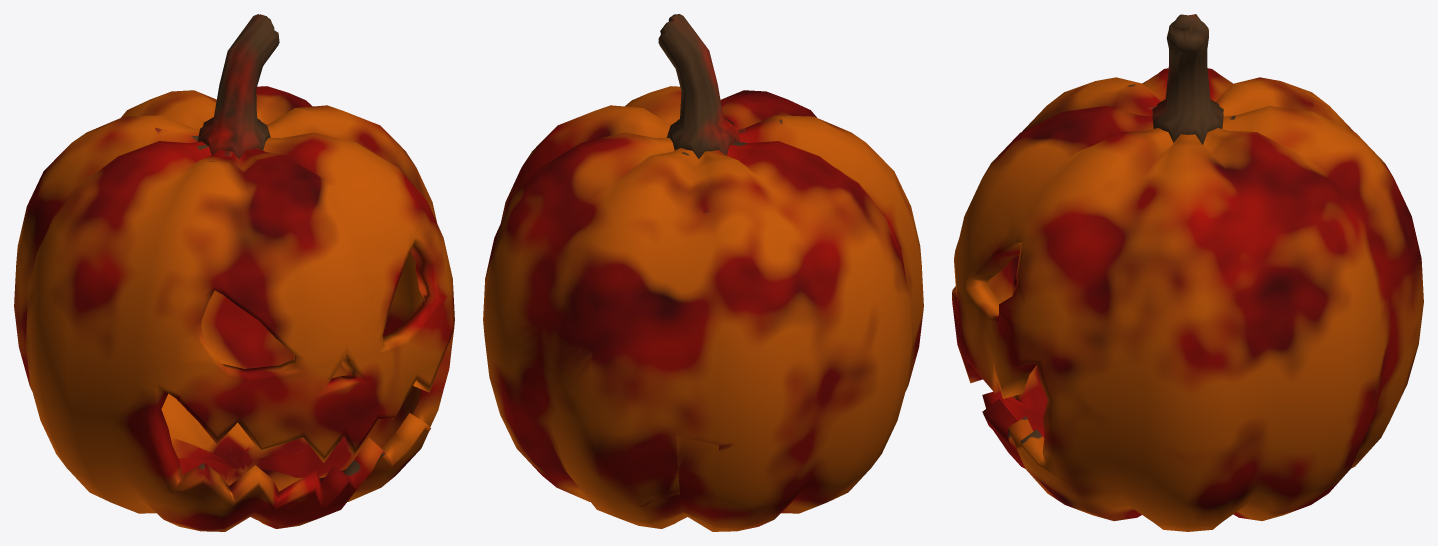
The model's file is DirtyPlate.fbx.
3 views of the same model, side by side, from view 1: azimuth 30°, elevation 25°; view 2: azimuth 150°, elevation 25°; view 3: azimuth 270°, elevation 25° (orthographic). The views are drawn at different scales.
Visible parts, largest first — view 1: Sphere, Sphere.001; view 2: Sphere, Sphere.001; view 3: Sphere, Sphere.001.
Part boxes in pixels (x1=…): Sphere: x1=14, y1=86, x2=454, y2=531; Sphere.001: x1=197, y1=14, x2=279, y2=158; Sphere: x1=483, y1=86, x2=923, y2=531; Sphere.001: x1=658, y1=14, x2=739, y2=158; Sphere: x1=952, y1=68, x2=1423, y2=531; Sphere.001: x1=1152, y1=14, x2=1223, y2=144.
Size of the model in its own units: 1.94 by 2.2 by 1.94.
1 material, 1 textured.
